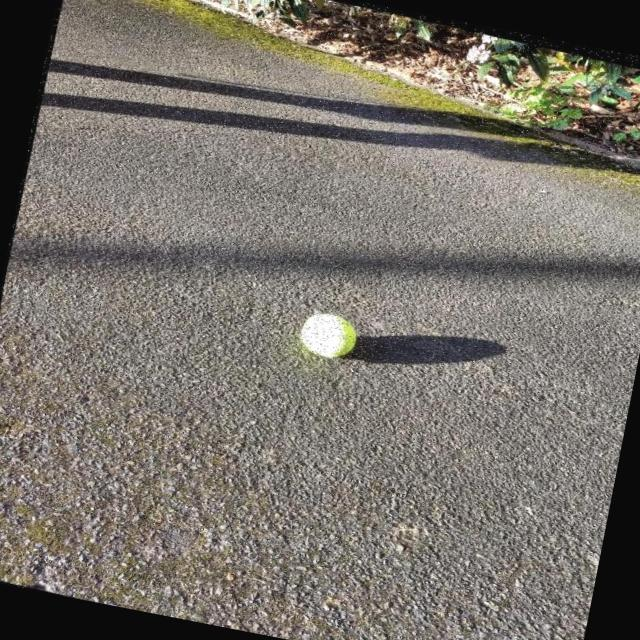tennis-ball: (291, 302, 377, 373)
